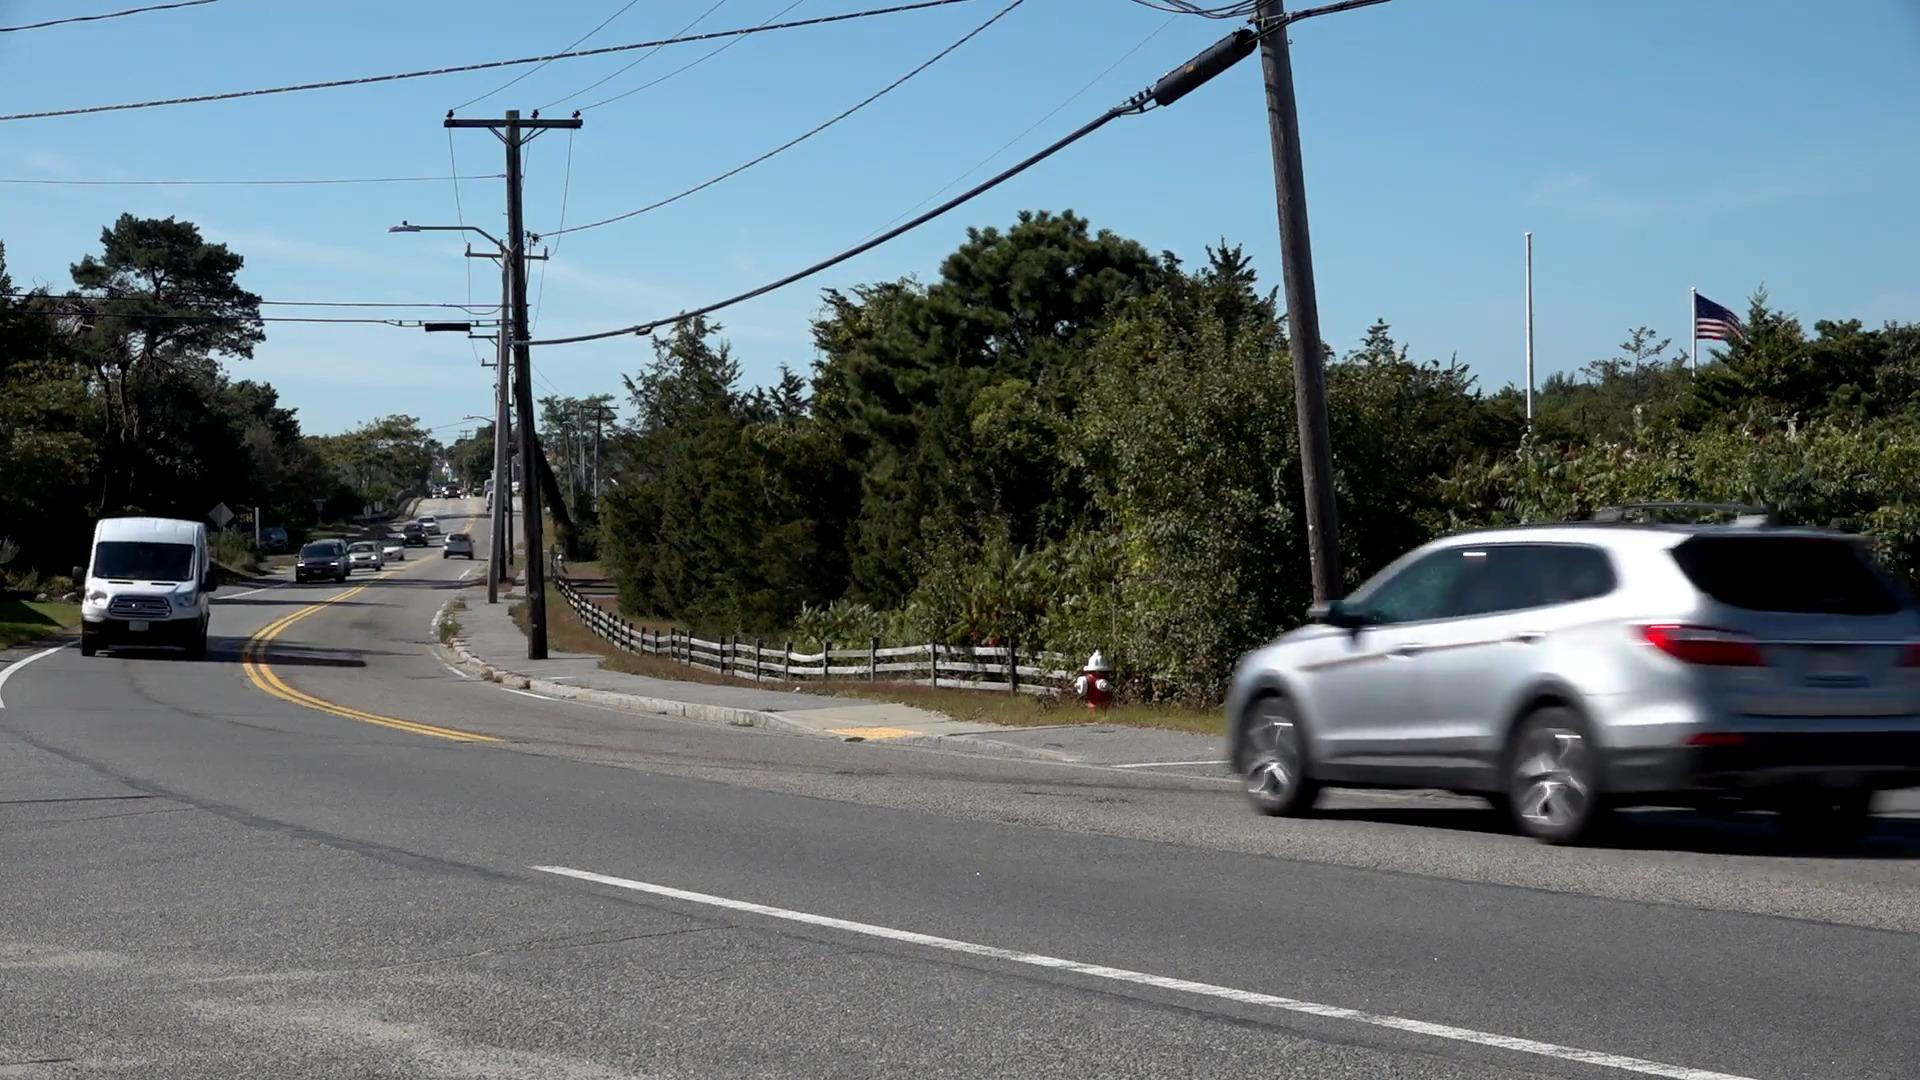minivan: (87, 516, 211, 654)
suv: (1220, 523, 1920, 840), (293, 544, 350, 589)
